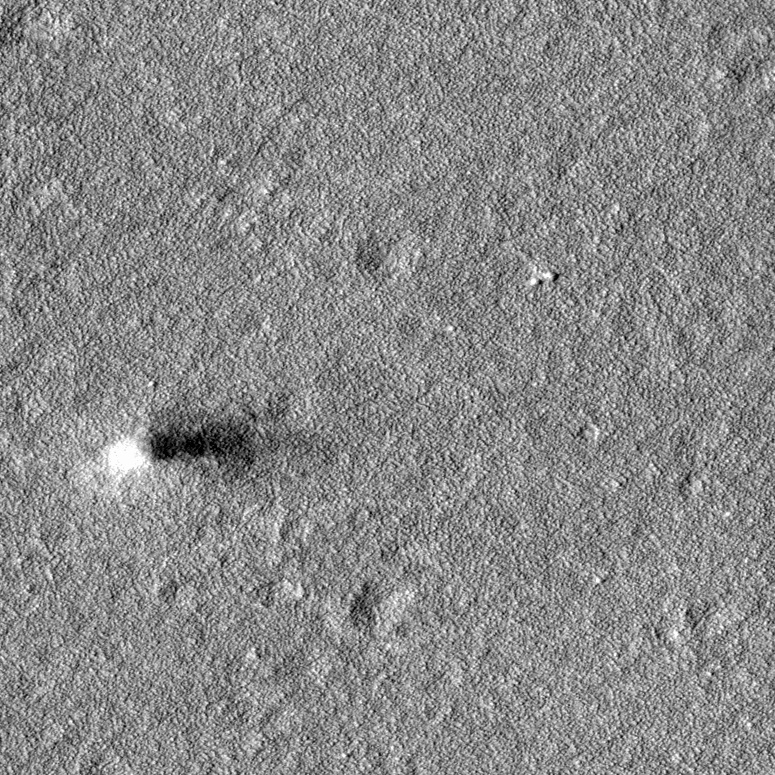dust_devil: (102, 407, 344, 481)
